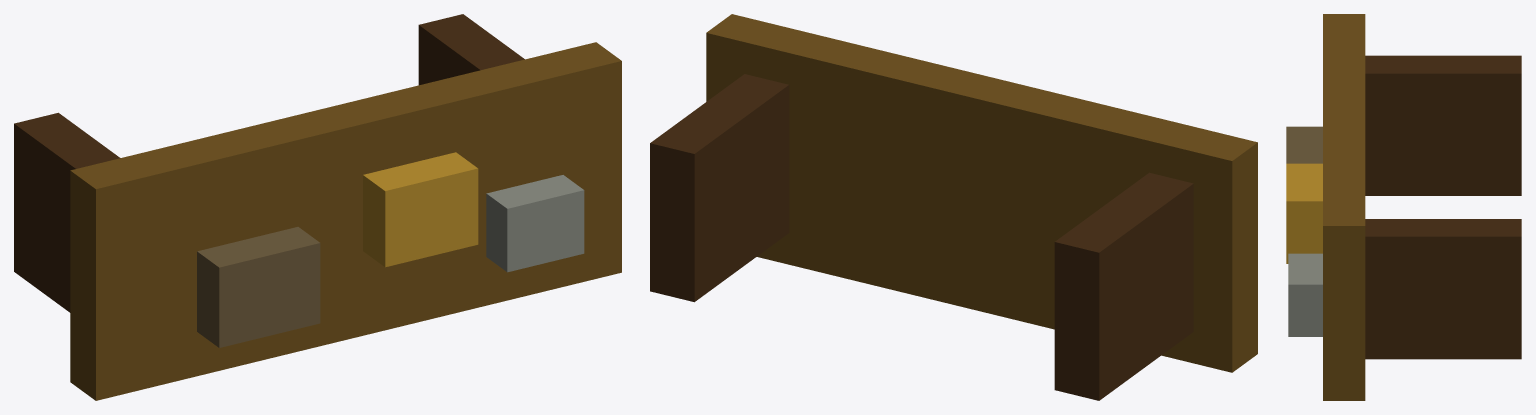
The model's file is SM_LorienGiftTable.obj.
3 renders of one model, left to right at view 1: azimuth 30°, elevation 25°; view 2: azimuth 150°, elevation 25°; view 3: azimuth 270°, elevation 25°, orthographic. The views are drawn at different scales.
Visible parts, largest first — view 1: SM_LorienGiftTable; view 2: SM_LorienGiftTable; view 3: SM_LorienGiftTable.
Part boxes in pixels (bbox=[...]): SM_LorienGiftTable: bbox=[14, 14, 621, 400]; SM_LorienGiftTable: bbox=[650, 14, 1257, 400]; SM_LorienGiftTable: bbox=[1286, 14, 1521, 400].
Size of the model in its own units: 260 by 100 by 122.
